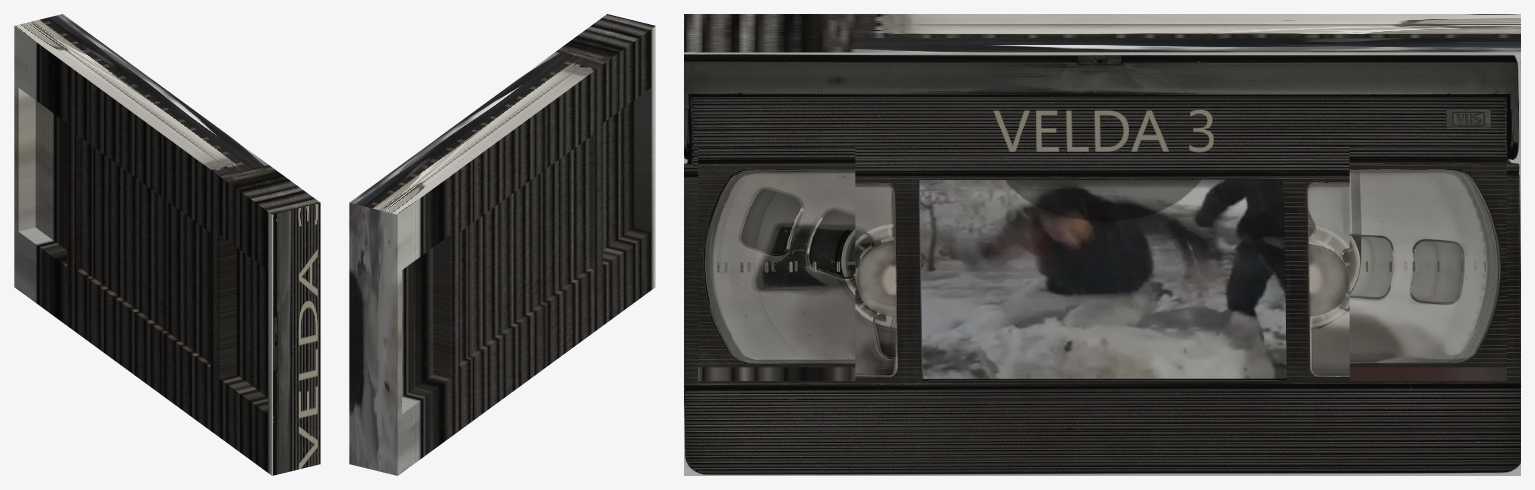
Rendered from KASET31son.fbx.
The picture shows the model from 3 angles, left to right: view 1: azimuth 30°, elevation 25°; view 2: azimuth 150°, elevation 25°; view 3: azimuth 270°, elevation 25°; orthographic projection. The views are drawn at different scales.
Visible parts, largest first — view 1: Cube; view 2: Cube; view 3: Cube.
Boxes of the visible parts, x1,y1,x2,y2 form: Cube: (14,14,320,475); Cube: (349,14,655,475); Cube: (684,14,1520,475).
Bounding box in the file's own units: 54.06 × 278 × 497.
